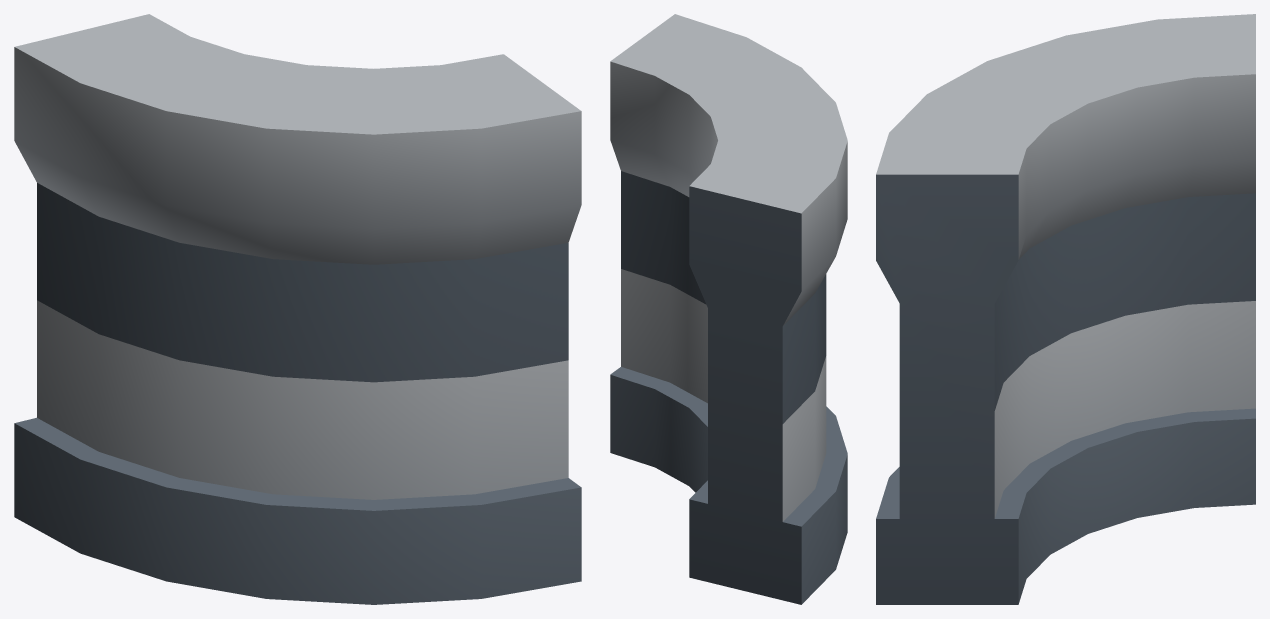
The model's file is wall-corner-round-banner.glb.
The picture shows the model from 3 angles, left to right: view 1: azimuth 30°, elevation 25°; view 2: azimuth 150°, elevation 25°; view 3: azimuth 270°, elevation 25°; orthographic projection. The views are drawn at different scales.
Parts seen in each view (by area): view 1: wall-corner-round-banner; view 2: wall-corner-round-banner; view 3: wall-corner-round-banner.
Part boxes in pixels (x1,y1,x2,y2): wall-corner-round-banner: (14,14,581,604); wall-corner-round-banner: (610,14,847,604); wall-corner-round-banner: (876,14,1255,604).
Bounding box in the file's own units: 0.8 × 1 × 0.8.
